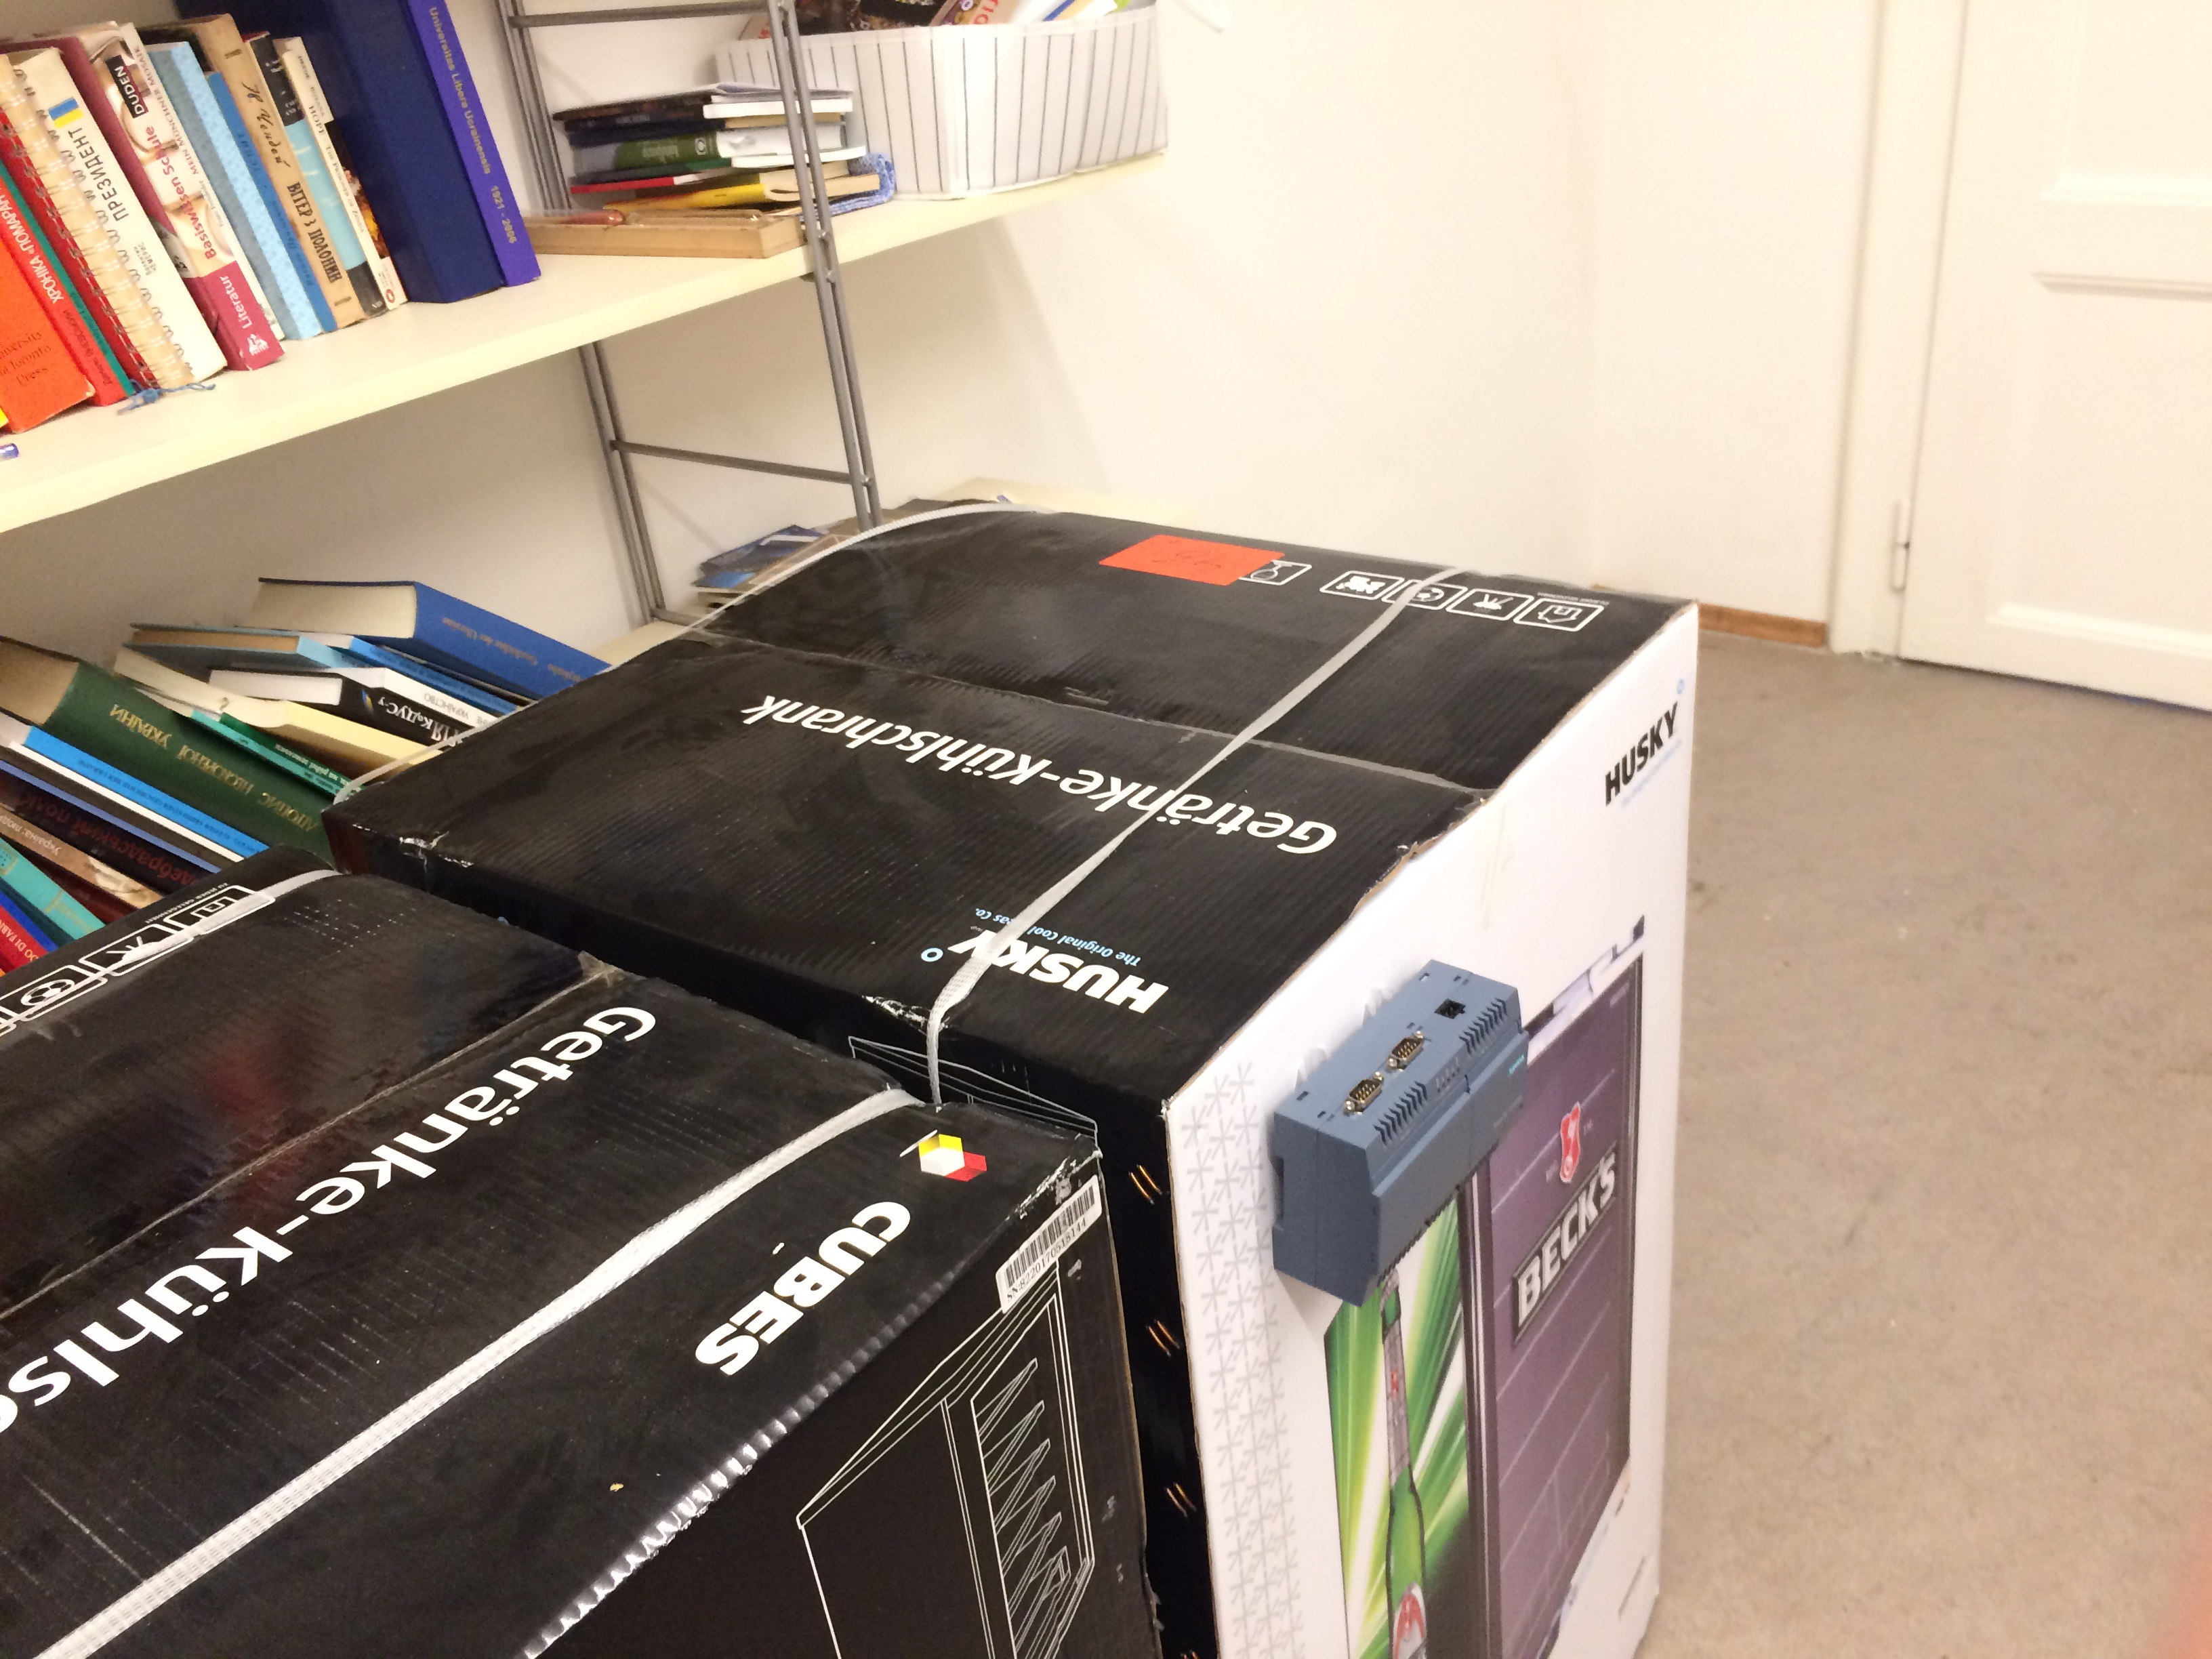iot2000: (1268, 957, 1534, 1314)
